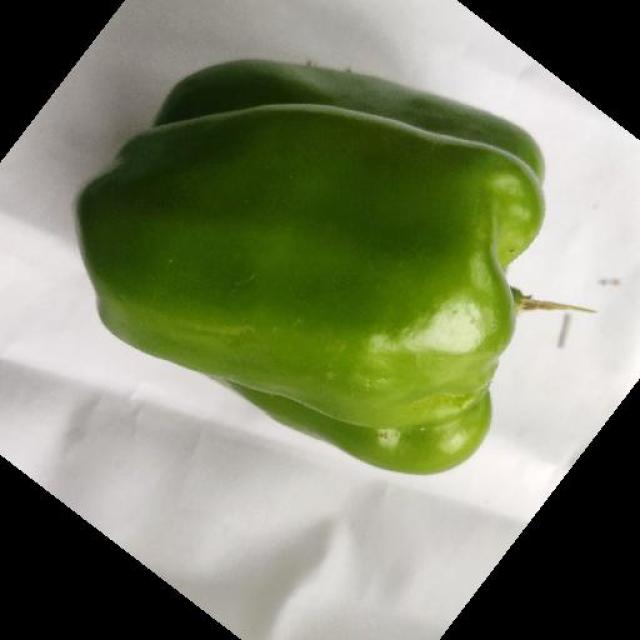Fresh_Capsicum: (138, 53, 526, 434)
